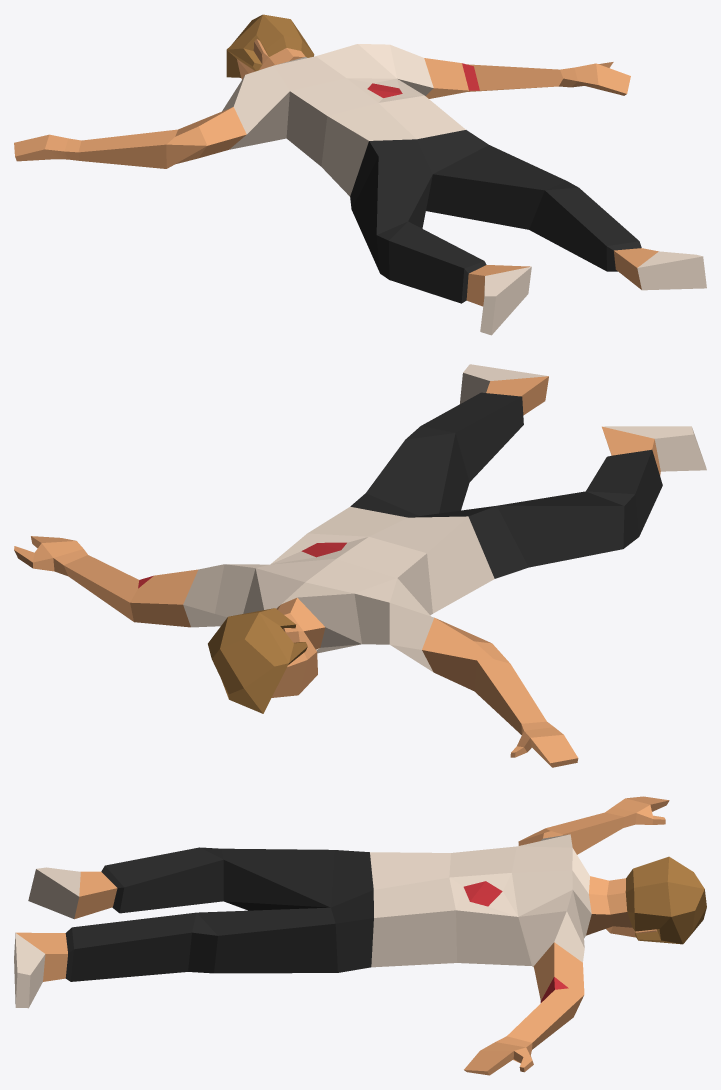
The model's file is apocalypse_man-shirt-dead-b.fbx.
3 views of the same model, one above another, from view 1: azimuth 30°, elevation 25°; view 2: azimuth 150°, elevation 25°; view 3: azimuth 270°, elevation 25° (orthographic). The views are drawn at different scales.
Visible parts, largest first — view 1: apocalypse_man_shirt_dead_b; view 2: apocalypse_man_shirt_dead_b; view 3: apocalypse_man_shirt_dead_b.
Part boxes in pixels (x1,y1,x2,y2): apocalypse_man_shirt_dead_b: (14, 14, 706, 335); apocalypse_man_shirt_dead_b: (14, 364, 706, 767); apocalypse_man_shirt_dead_b: (14, 796, 706, 1075).
Bounding box in the file's own units: 190 × 27.75 × 200.
